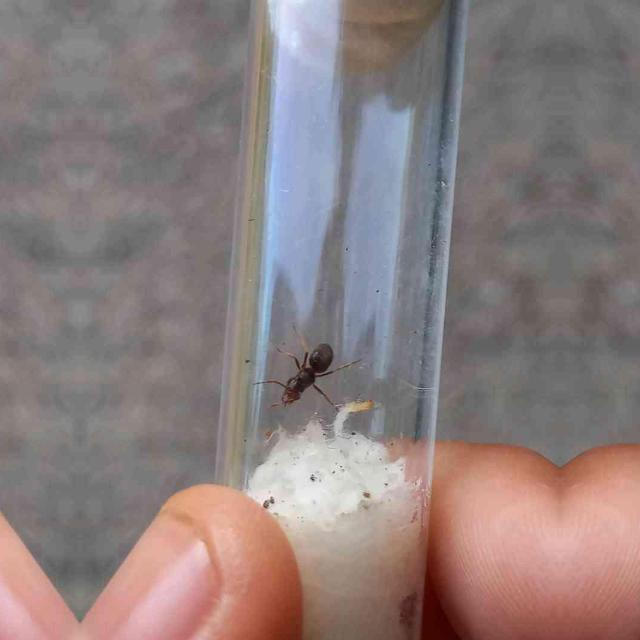Lasius: (272, 335, 346, 411)
